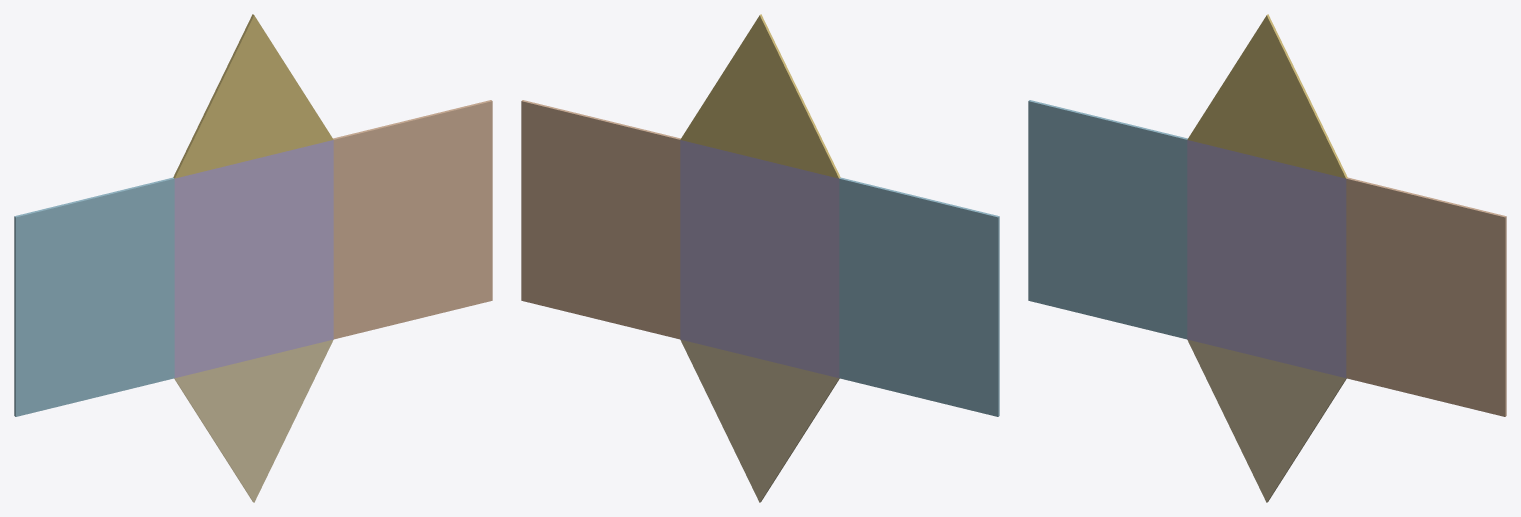
Rendered from 05_jaring_jaring_prisma_pastel.glb.
3 views of the same model, side by side, from view 1: azimuth 30°, elevation 25°; view 2: azimuth 150°, elevation 25°; view 3: azimuth 330°, elevation 25° (orthographic).
Visible parts, largest first — view 1: Persegi_Panjang_01, Persegi_Panjang_03, Persegi_Panjang_02, Segitiga_Alas, Segitiga_Tutup; view 2: Persegi_Panjang_01, Persegi_Panjang_03, Persegi_Panjang_02, Segitiga_Alas, Segitiga_Tutup; view 3: Persegi_Panjang_03, Persegi_Panjang_01, Persegi_Panjang_02, Segitiga_Alas, Segitiga_Tutup.
Part boxes in pixels (bbox=[...]): Persegi_Panjang_01: bbox=[14, 177, 174, 416]; Persegi_Panjang_03: bbox=[333, 100, 492, 339]; Persegi_Panjang_02: bbox=[174, 140, 333, 377]; Segitiga_Alas: bbox=[173, 14, 333, 178]; Segitiga_Tutup: bbox=[174, 339, 333, 502]; Persegi_Panjang_01: bbox=[839, 177, 999, 416]; Persegi_Panjang_03: bbox=[521, 100, 680, 339]; Persegi_Panjang_02: bbox=[680, 140, 839, 377]; Segitiga_Alas: bbox=[680, 14, 840, 178]; Segitiga_Tutup: bbox=[680, 339, 839, 502]; Persegi_Panjang_03: bbox=[1346, 177, 1506, 416]; Persegi_Panjang_01: bbox=[1028, 100, 1187, 339]; Persegi_Panjang_02: bbox=[1187, 140, 1346, 377]; Segitiga_Alas: bbox=[1187, 14, 1347, 178]; Segitiga_Tutup: bbox=[1187, 339, 1346, 502].
Bounding box in the file's own units: 6 × 5.86 × 0.035.
